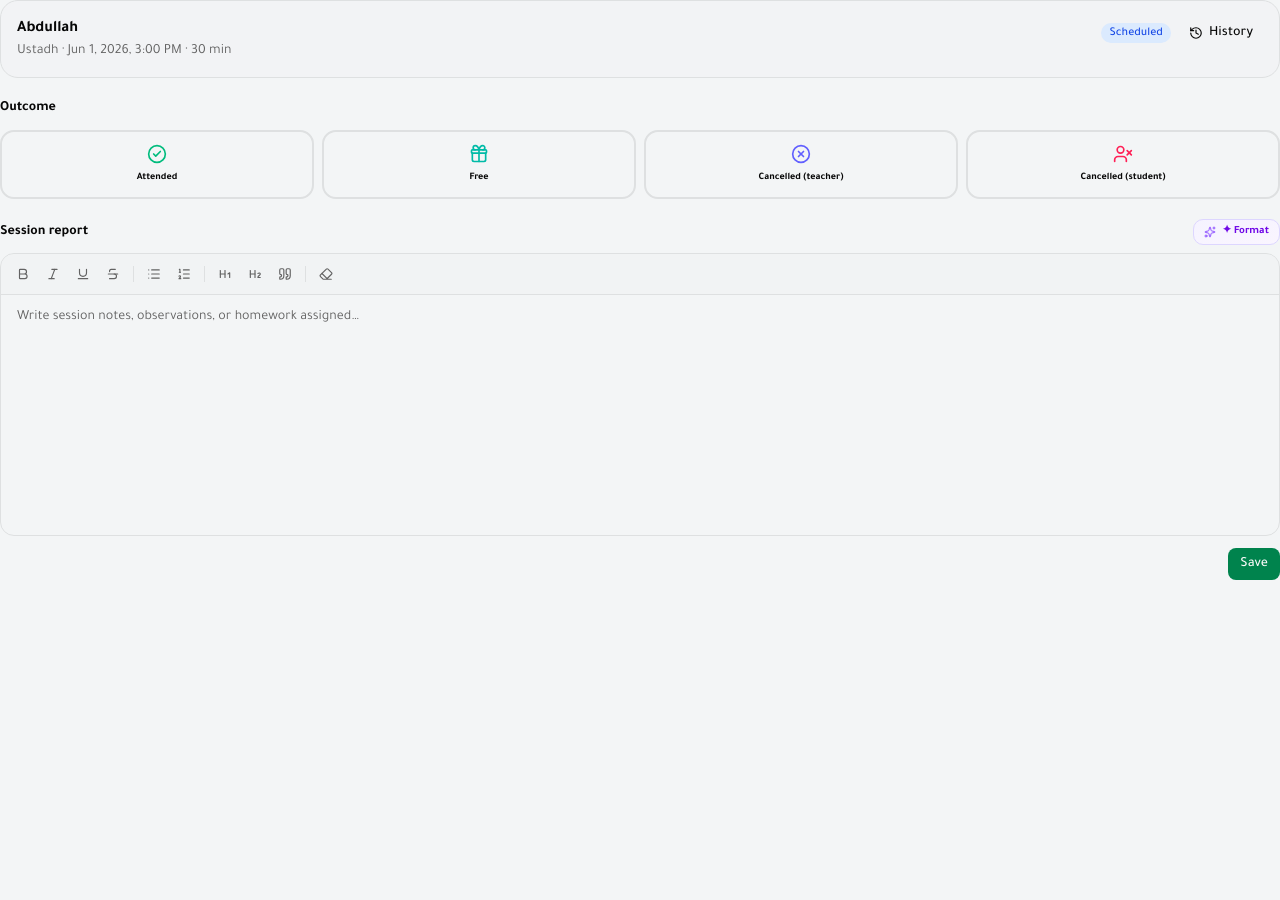
Test: AttendanceReport (Sprint 6 §2/§6) › opens the report-history popup (AC-6.11)
The width and height of the screenshot is (1280, 900).
Click the button with test id "open-history". click: [1221, 33]
box: [1179,17,1263,49]
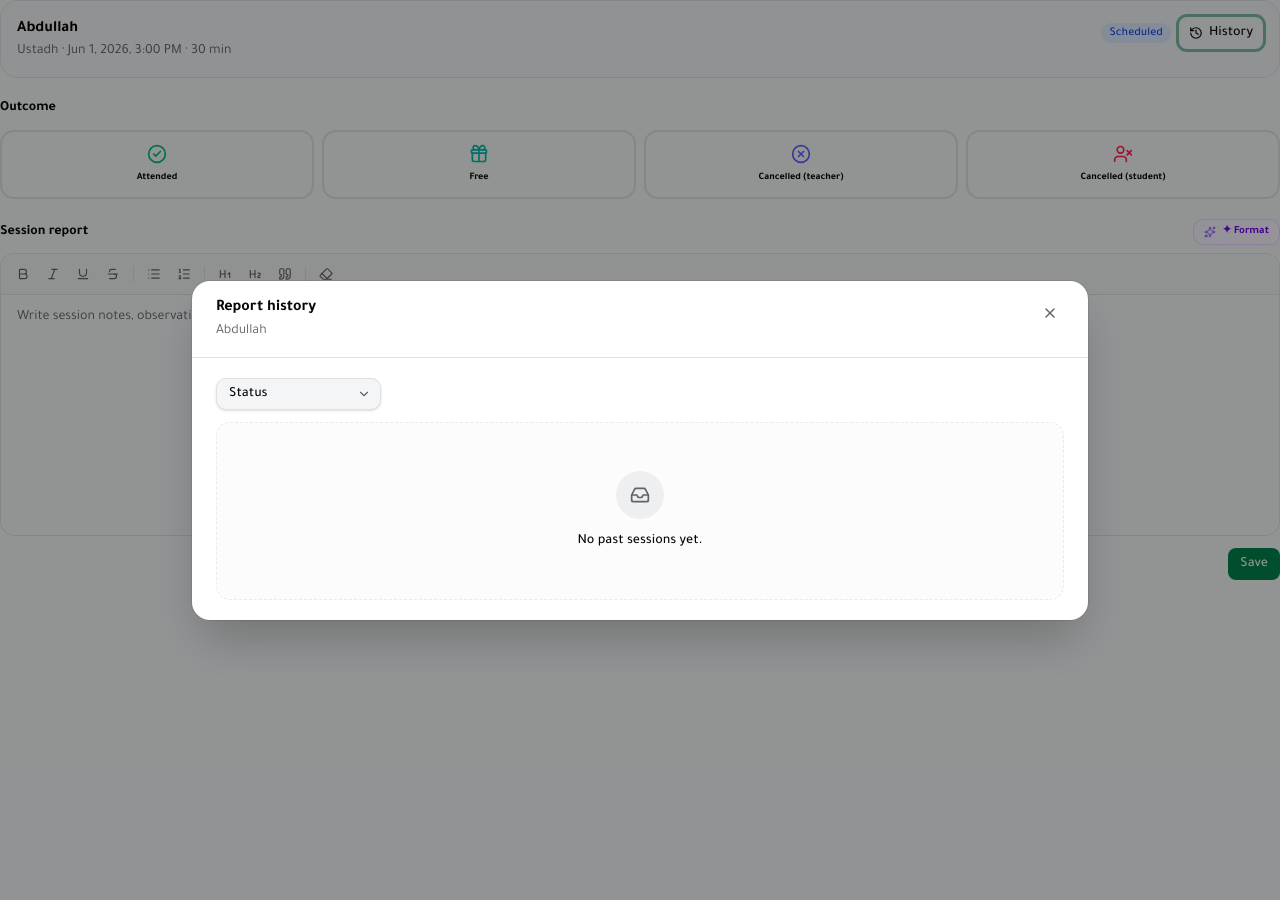
Expected: the element with test id "report-archive-table" is shown, [216,378,1064,600]
